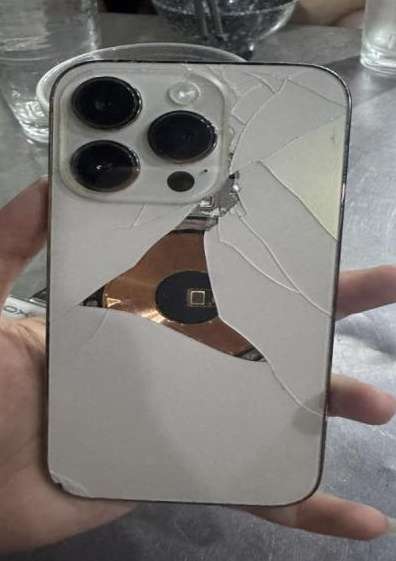physical_damage: (106, 232, 268, 364), (208, 179, 338, 317), (223, 100, 346, 178), (179, 62, 349, 96), (47, 306, 109, 369), (267, 360, 327, 418), (117, 204, 206, 231), (47, 471, 95, 498)
scratch: (192, 499, 288, 507)
